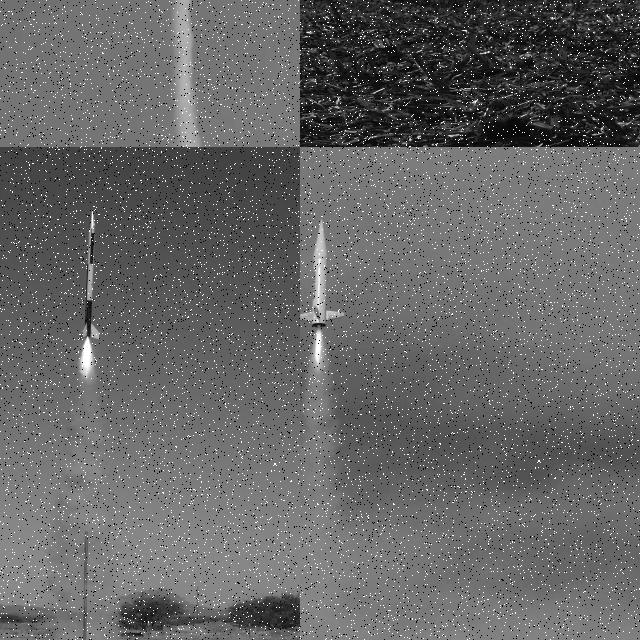Rocket: (300, 218, 345, 329), (76, 208, 104, 341)
